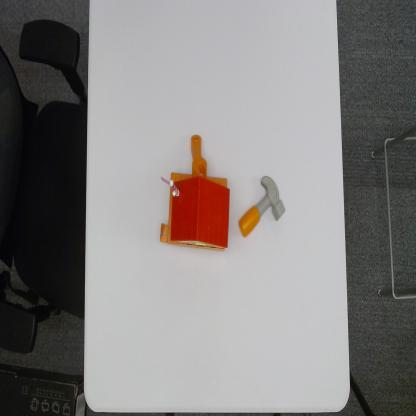Hammer: (238, 173, 287, 240)
House: (159, 169, 231, 254)
Screwdriver: (189, 132, 209, 176)
